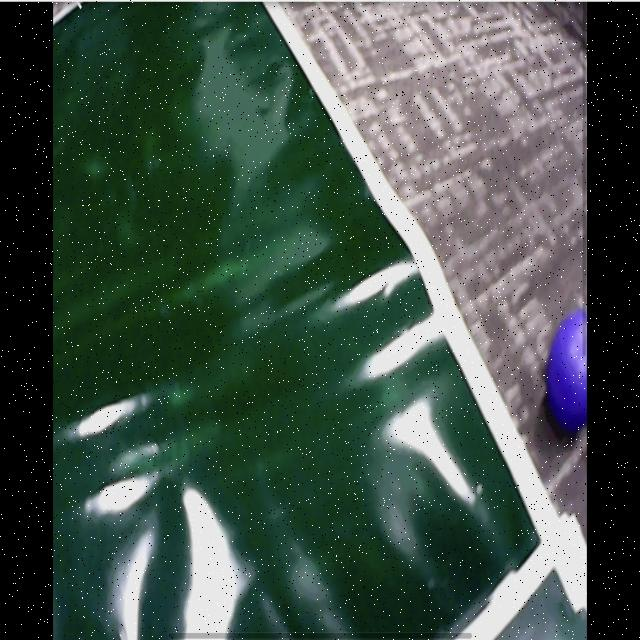ball: (547, 311, 588, 426)
